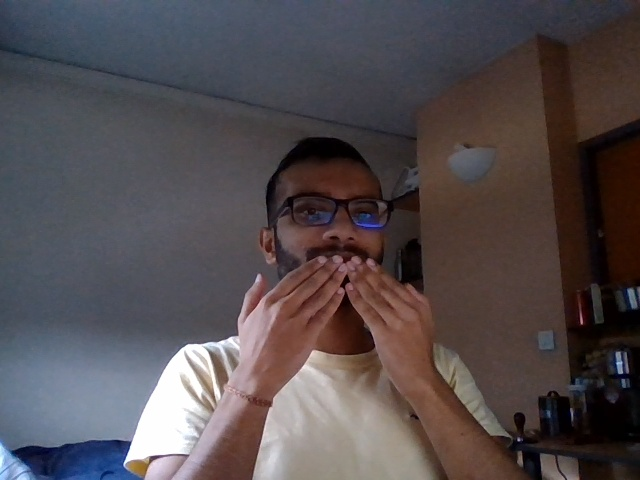Thanks: (197, 244, 458, 379)
